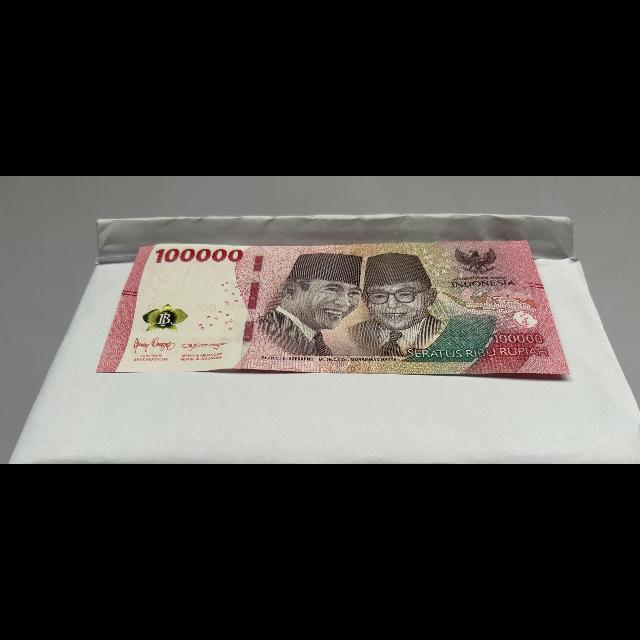Asli-100k: (90, 237, 575, 382)
Tinta-Asli-100k: (138, 302, 194, 334)
